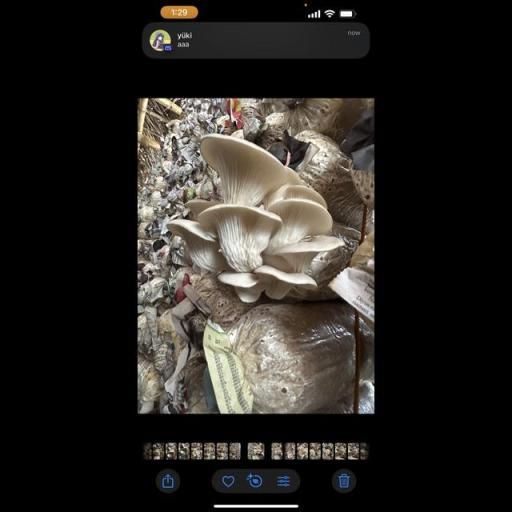White Oyster Mushroom: (168, 125, 338, 312)
